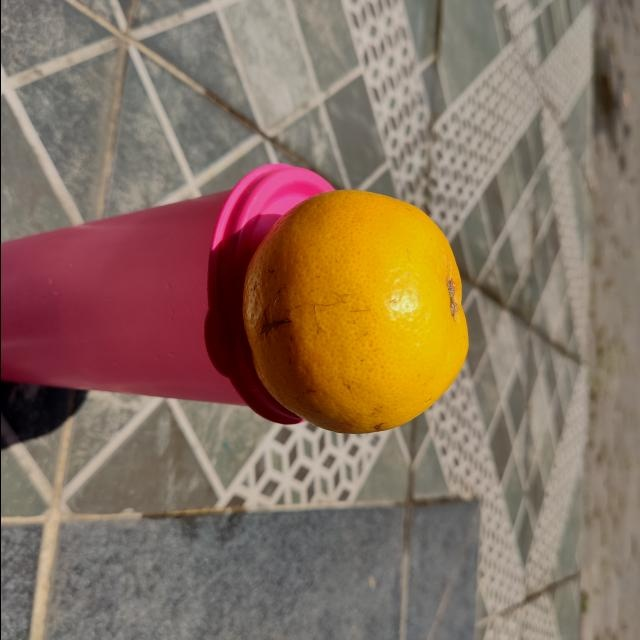agrume: (236, 189, 468, 436)
